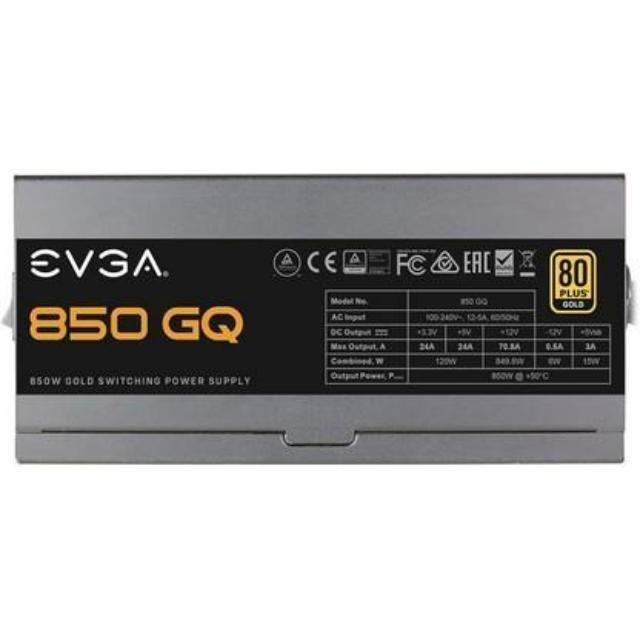PSU: (2, 154, 640, 472)
